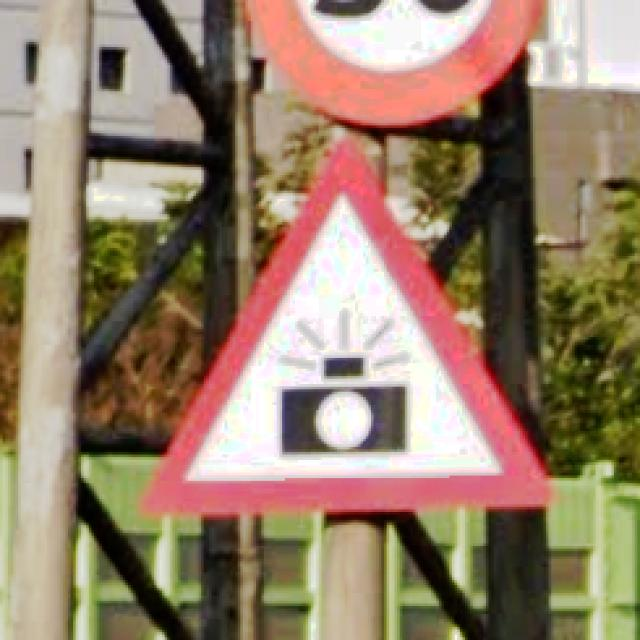speedcamera: (136, 130, 556, 520)
